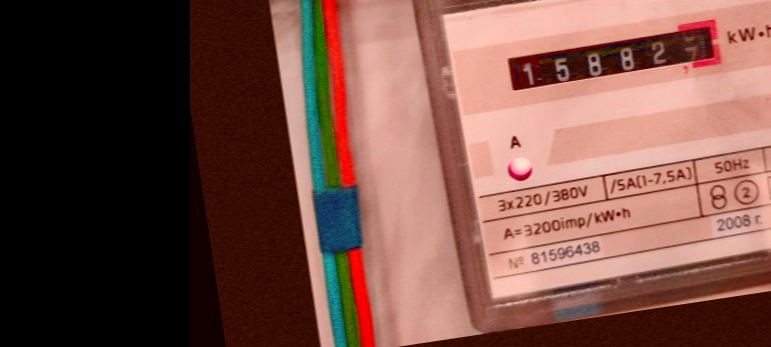1: (522, 60, 540, 90)
2: (652, 40, 672, 70)
5: (554, 56, 576, 85)
7: (685, 45, 703, 64)
8: (587, 51, 607, 81), (620, 45, 639, 75)
screen: (495, 11, 736, 108)
